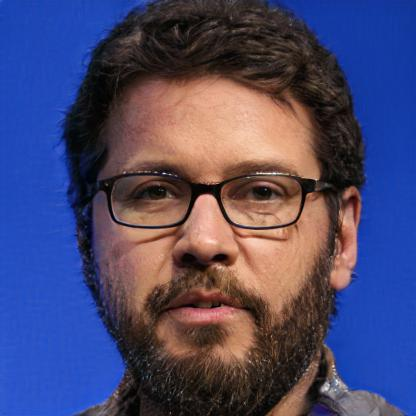glasses: (96, 166, 322, 234)
